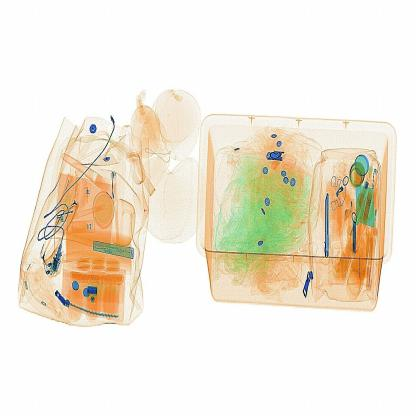pliers: (320, 192, 334, 262)
